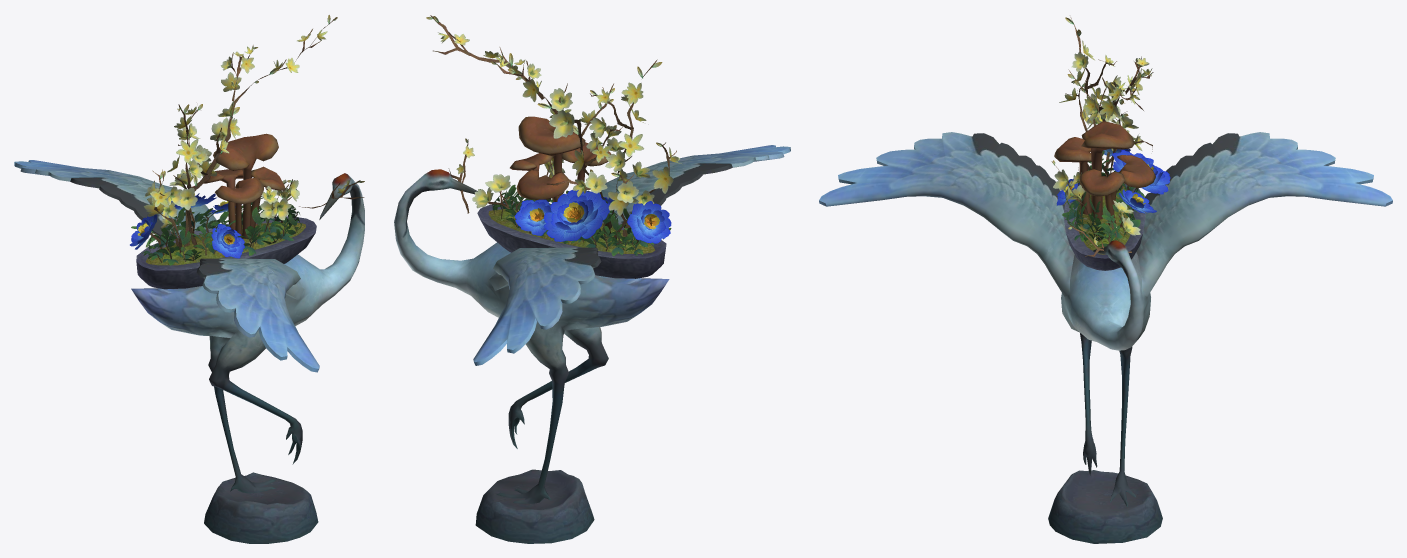
File: furniture-20812.glb
3 renders of one model, left to right at view 1: azimuth 30°, elevation 25°; view 2: azimuth 150°, elevation 25°; view 3: azimuth 270°, elevation 25°, orthographic. The views are drawn at different scales.
Size of the model in its own units: 0.973 by 1.76 by 1.91.
1 material, 1 textured.
